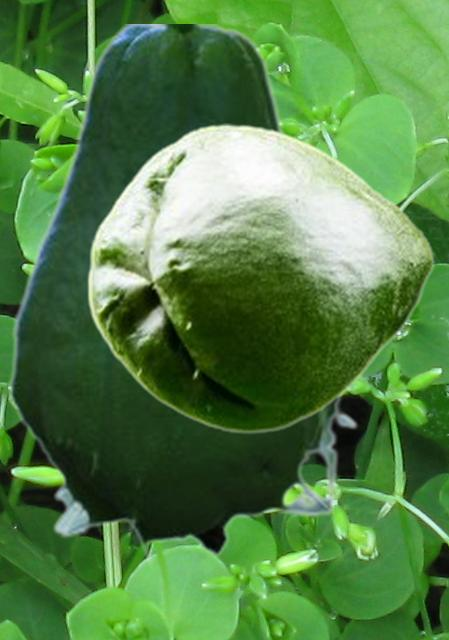sayote: (8, 24, 358, 566), (86, 123, 434, 433)
